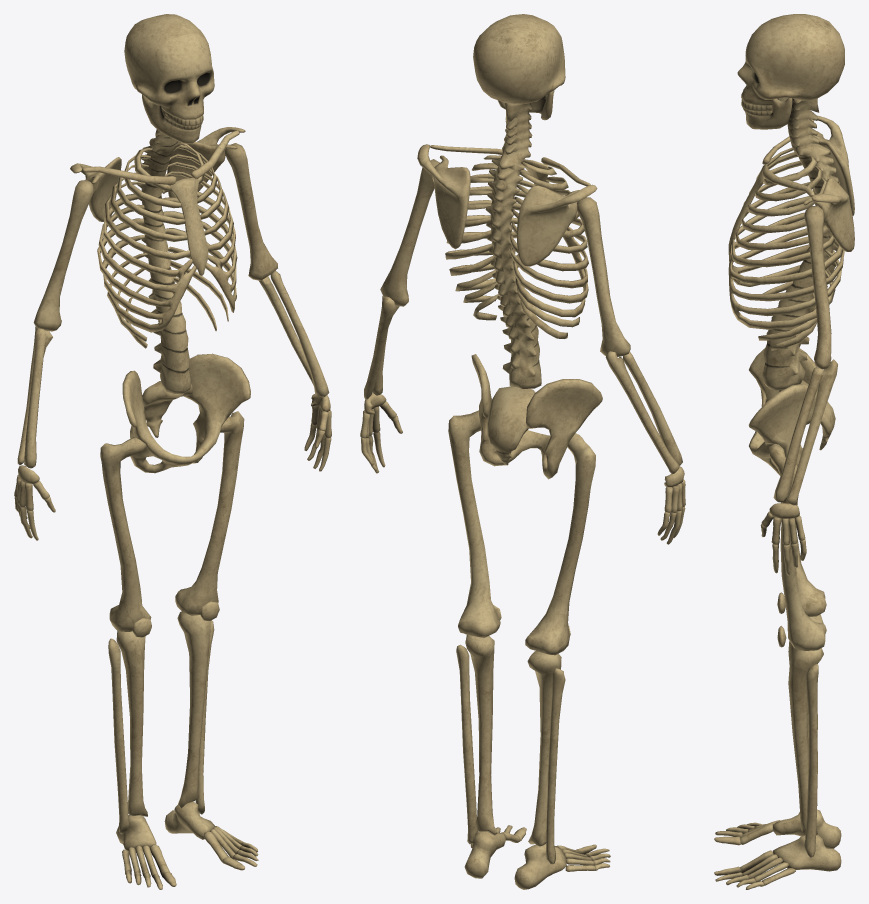
The model's file is Breakable Skeleton.fbx.
3 views of the same model, side by side, from view 1: azimuth 30°, elevation 25°; view 2: azimuth 150°, elevation 25°; view 3: azimuth 270°, elevation 25° (orthographic). The views are drawn at different scales.
Visible parts, largest first — view 1: Skeleton_M_SkeletonOldBone_0.016, Skeleton_M_SkeletonOldBone_0.015, Skeleton_M_SkeletonOldBone_0.011, Skeleton_M_SkeletonOldBone_0.017, Skeleton_M_SkeletonOldBone_0.007, Skeleton_M_SkeletonOldBone_0.014, Skeleton_M_SkeletonOldBone_0.008, Skeleton_M_SkeletonOldBone_0.006, Skeleton_M_SkeletonOldBone_0.005, Skeleton_M_SkeletonOldBone_0.001, Skeleton_M_SkeletonOldBone_0.002, Skeleton_M_SkeletonOldBone_0.003 (+4 smaller); view 2: Skeleton_M_SkeletonOldBone_0.016, Skeleton_M_SkeletonOldBone_0.015, Skeleton_M_SkeletonOldBone_0.014, Skeleton_M_SkeletonOldBone_0.017, Skeleton_M_SkeletonOldBone_0.011, Skeleton_M_SkeletonOldBone_0.008, Skeleton_M_SkeletonOldBone_0.005, Skeleton_M_SkeletonOldBone_0.006, Skeleton_M_SkeletonOldBone_0.007, Skeleton_M_SkeletonOldBone_0.002, Skeleton_M_SkeletonOldBone_0.001, Skeleton_M_SkeletonOldBone_0.003 (+3 smaller); view 3: Skeleton_M_SkeletonOldBone_0.017, Skeleton_M_SkeletonOldBone_0.011, Skeleton_M_SkeletonOldBone_0.014, Skeleton_M_SkeletonOldBone_0.001, Skeleton_M_SkeletonOldBone_0.008, Skeleton_M_SkeletonOldBone_0.016, Skeleton_M_SkeletonOldBone_0.015, Skeleton_M_SkeletonOldBone_0.009, Skeleton_M_SkeletonOldBone_0.005, Skeleton_M_SkeletonOldBone_0.004, Skeleton_M_SkeletonOldBone_0.010, Skeleton_M_SkeletonOldBone_0.006 (+3 smaller).
Part boxes in pixels (x1,y1,x2,y2): Skeleton_M_SkeletonOldBone_0.016: [70, 148, 201, 348]; Skeleton_M_SkeletonOldBone_0.015: [122, 353, 250, 473]; Skeleton_M_SkeletonOldBone_0.011: [124, 14, 214, 119]; Skeleton_M_SkeletonOldBone_0.017: [162, 127, 245, 331]; Skeleton_M_SkeletonOldBone_0.007: [108, 618, 151, 834]; Skeleton_M_SkeletonOldBone_0.014: [137, 106, 191, 393]; Skeleton_M_SkeletonOldBone_0.008: [177, 601, 219, 814]; Skeleton_M_SkeletonOldBone_0.006: [100, 437, 151, 631]; Skeleton_M_SkeletonOldBone_0.005: [175, 411, 244, 615]; Skeleton_M_SkeletonOldBone_0.001: [259, 270, 331, 471]; Skeleton_M_SkeletonOldBone_0.002: [14, 326, 55, 540]; Skeleton_M_SkeletonOldBone_0.003: [33, 180, 93, 331]; Skeleton_M_SkeletonOldBone_0.016: [510, 157, 597, 338]; Skeleton_M_SkeletonOldBone_0.015: [471, 354, 602, 479]; Skeleton_M_SkeletonOldBone_0.014: [485, 101, 541, 388]; Skeleton_M_SkeletonOldBone_0.017: [417, 144, 538, 320]; Skeleton_M_SkeletonOldBone_0.011: [473, 14, 565, 104]; Skeleton_M_SkeletonOldBone_0.008: [456, 605, 501, 844]; Skeleton_M_SkeletonOldBone_0.005: [448, 410, 500, 637]; Skeleton_M_SkeletonOldBone_0.006: [525, 433, 595, 655]; Skeleton_M_SkeletonOldBone_0.007: [527, 625, 570, 864]; Skeleton_M_SkeletonOldBone_0.002: [605, 351, 685, 544]; Skeleton_M_SkeletonOldBone_0.001: [360, 296, 402, 473]; Skeleton_M_SkeletonOldBone_0.003: [577, 197, 630, 356]; Skeleton_M_SkeletonOldBone_0.017: [728, 156, 854, 350]; Skeleton_M_SkeletonOldBone_0.011: [737, 14, 844, 105]; Skeleton_M_SkeletonOldBone_0.014: [762, 98, 838, 390]; Skeleton_M_SkeletonOldBone_0.001: [760, 359, 837, 575]; Skeleton_M_SkeletonOldBone_0.008: [777, 626, 823, 857]; Skeleton_M_SkeletonOldBone_0.016: [728, 115, 854, 315]; Skeleton_M_SkeletonOldBone_0.015: [748, 348, 835, 475]; Skeleton_M_SkeletonOldBone_0.009: [714, 835, 841, 889]; Skeleton_M_SkeletonOldBone_0.005: [767, 444, 826, 650]; Skeleton_M_SkeletonOldBone_0.004: [804, 206, 831, 368]; Skeleton_M_SkeletonOldBone_0.010: [714, 809, 841, 848]; Skeleton_M_SkeletonOldBone_0.006: [780, 502, 826, 616].
Size of the model in its own units: 7004 by 17996 by 2733.
Materials: 1 (1 with a texture image).
